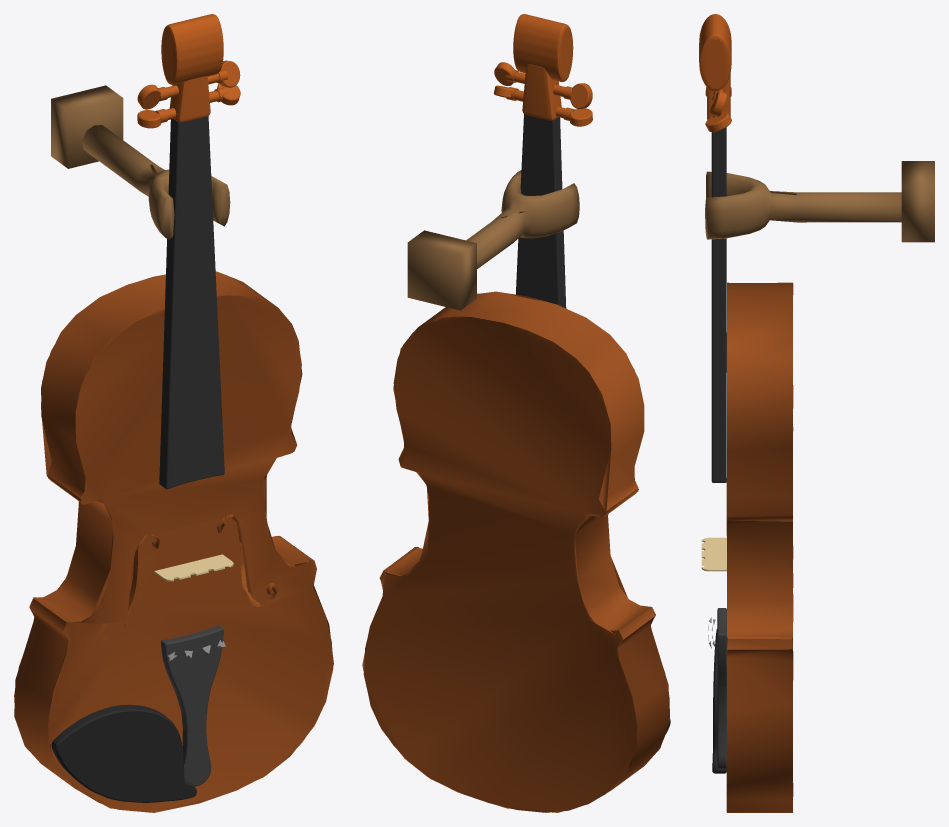
The model's file is decimated_violin.glb.
3 views of the same model, side by side, from view 1: azimuth 30°, elevation 25°; view 2: azimuth 150°, elevation 25°; view 3: azimuth 270°, elevation 25° (orthographic). The views are drawn at different scales.
Parts seen in each view (by area): view 1: Object_2, Object_4, Object_9, Cube, Object_8, Object_6, Object_7, Object_5, Object_10; view 2: Object_2, Cube, Object_4, Object_6, Object_7, Object_5; view 3: Object_2, Cube, Object_4, Object_6, Object_8, Object_10, Object_7, Object_9.
Part boxes in pixels (box(x1,y1,x2,y2)): Object_2: box(14, 271, 333, 812); Object_4: box(159, 116, 224, 489); Object_9: box(50, 704, 196, 802); Cube: box(51, 85, 230, 239); Object_8: box(161, 625, 223, 786); Object_6: box(161, 14, 223, 84); Object_7: box(137, 60, 240, 128); Object_5: box(169, 76, 210, 122); Object_10: box(154, 554, 233, 581); Object_2: box(362, 291, 669, 812); Cube: box(407, 170, 579, 310); Object_4: box(516, 114, 566, 308); Object_6: box(513, 14, 573, 81); Object_7: box(493, 62, 592, 126); Object_5: box(522, 64, 561, 120); Object_2: box(726, 282, 793, 812); Cube: box(705, 161, 934, 242); Object_4: box(711, 127, 726, 482); Object_6: box(699, 14, 731, 91); Object_8: box(717, 608, 726, 769); Object_10: box(701, 537, 726, 571); Object_7: box(705, 87, 731, 132); Object_9: box(712, 629, 727, 773).
Bounding box in the file's own units: 1.57 × 4.15 × 1.16.
